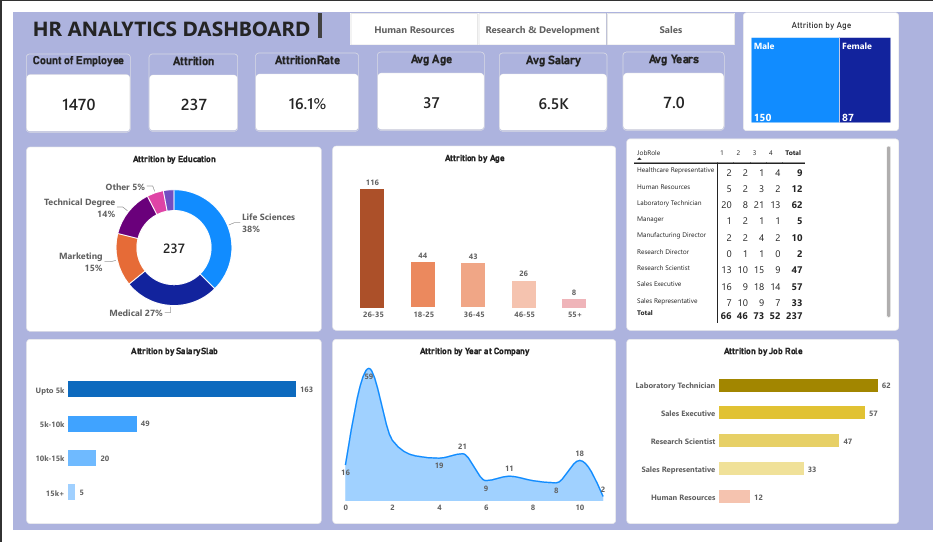

The page's visual inventory and layout, read from the dashboard file:
{"tool":"powerbi","page":{"name":"Page 1","canvas":[1920,1080],"ordinal":0},"visuals":[{"type":"cardVisual","title":"Count of Employee","fields":{"Data":["CountNonNull(HR_Analytics (1).EmpID)"]},"box":[26,86,218,164],"z":0},{"type":"cardVisual","title":"Attrition","fields":{"Data":["Sum(HR_Analytics (1).AttritionCount)"]},"box":[282,86,186,162],"z":1000},{"type":"cardVisual","title":"AttritionRate","fields":{"Data":["HR_Analytics (1).AttritionRate"]},"box":[504,84,216,164],"z":2000},{"type":"cardVisual","title":"Avg Age","fields":{"Data":["Avg(HR_Analytics (1).Age)"]},"box":[758,82,224,164],"z":3000},{"type":"cardVisual","title":"Avg Salary","fields":{"Data":["Avg(HR_Analytics (1).MonthlyIncome)"]},"box":[1012,84,226,164],"z":4000},{"type":"cardVisual","title":"Avg Years","fields":{"Data":["Avg(HR_Analytics (1).YearsAtCompany)"]},"box":[1270,82,212,164],"z":5000},{"type":"donutChart","title":"Attrition by Education","fields":{"Category":["HR_Analytics (1).EducationField"],"Y":["Sum(HR_Analytics (1).AttritionCount)"]},"box":[26,280,548,384],"z":6000},{"type":"columnChart","title":"Attrition by Age","fields":{"Category":["HR_Analytics (1).AgeGroup"],"Y":["Sum(HR_Analytics (1).AttritionCount)"]},"box":[612,280,548,384],"z":7000},{"type":"pivotTable","fields":{"Columns":["HR_Analytics (1).JobSatisfaction"],"Rows":["HR_Analytics (1).JobRole"],"Values":["Sum(HR_Analytics (1).AttritionCount)"]},"box":[1198,264,568,400],"z":8000},{"type":"barChart","title":"Attrition by SalarySlab","fields":{"Category":["HR_Analytics (1).SalarySlab"],"Y":["Sum(HR_Analytics (1).AttritionCount)"]},"box":[26,682,548,384],"z":9000},{"type":"barChart","title":"Attrition by Job Role","fields":{"Category":["HR_Analytics (1).JobRole","HR_Analytics (1).SalarySlab"],"Y":["Sum(HR_Analytics (1).AttritionCount)"]},"box":[1198,682,568,384],"z":10000},{"type":"areaChart","title":"Attrition by Year at Company","fields":{"Category":["HR_Analytics (1).YearsAtCompany"],"Y":["Sum(HR_Analytics (1).AttritionCount)"]},"box":[612,682,548,384],"z":11000},{"type":"treemap","title":"Attrition by Age","fields":{"Group":["HR_Analytics (1).Gender"],"Values":["Sum(HR_Analytics (1).AttritionCount)"]},"box":[1522,0,244,246],"z":12000},{"type":"slicer","fields":{"Values":["HR_Analytics (1).Department"]},"box":[682,0,840,70],"z":12001},{"type":"textbox","box":[1746,0,174,224],"z":12002},{"type":"textbox","box":[1746,244,174,404],"z":12003},{"type":"textbox","box":[40,2,604,54],"z":12005}]}

Visuals, with their boxes on the page's 1920x1080 design canvas (x1, y1, x2, y2). These are canvas units, not pixel positions in the 933x542 screenshot, which may show the page scaled, cropped or inside an application window:
"Count of Employee" cardVisual: x1=26 y1=86 x2=244 y2=250
"Attrition" cardVisual: x1=282 y1=86 x2=468 y2=248
"AttritionRate" cardVisual: x1=504 y1=84 x2=720 y2=248
"Avg Age" cardVisual: x1=758 y1=82 x2=982 y2=246
"Avg Salary" cardVisual: x1=1012 y1=84 x2=1238 y2=248
"Avg Years" cardVisual: x1=1270 y1=82 x2=1482 y2=246
"Attrition by Education" donutChart: x1=26 y1=280 x2=574 y2=664
"Attrition by Age" columnChart: x1=612 y1=280 x2=1160 y2=664
pivotTable - HR_Analytics (1).JobSatisfaction x HR_Analytics (1).JobRole: x1=1198 y1=264 x2=1766 y2=664
"Attrition by SalarySlab" barChart: x1=26 y1=682 x2=574 y2=1066
"Attrition by Job Role" barChart: x1=1198 y1=682 x2=1766 y2=1066
"Attrition by Year at Company" areaChart: x1=612 y1=682 x2=1160 y2=1066
"Attrition by Age" treemap: x1=1522 y1=0 x2=1766 y2=246
slicer - HR_Analytics (1).Department: x1=682 y1=0 x2=1522 y2=70
textbox: x1=1746 y1=0 x2=1920 y2=224
textbox: x1=1746 y1=244 x2=1920 y2=648
textbox: x1=40 y1=2 x2=644 y2=56
